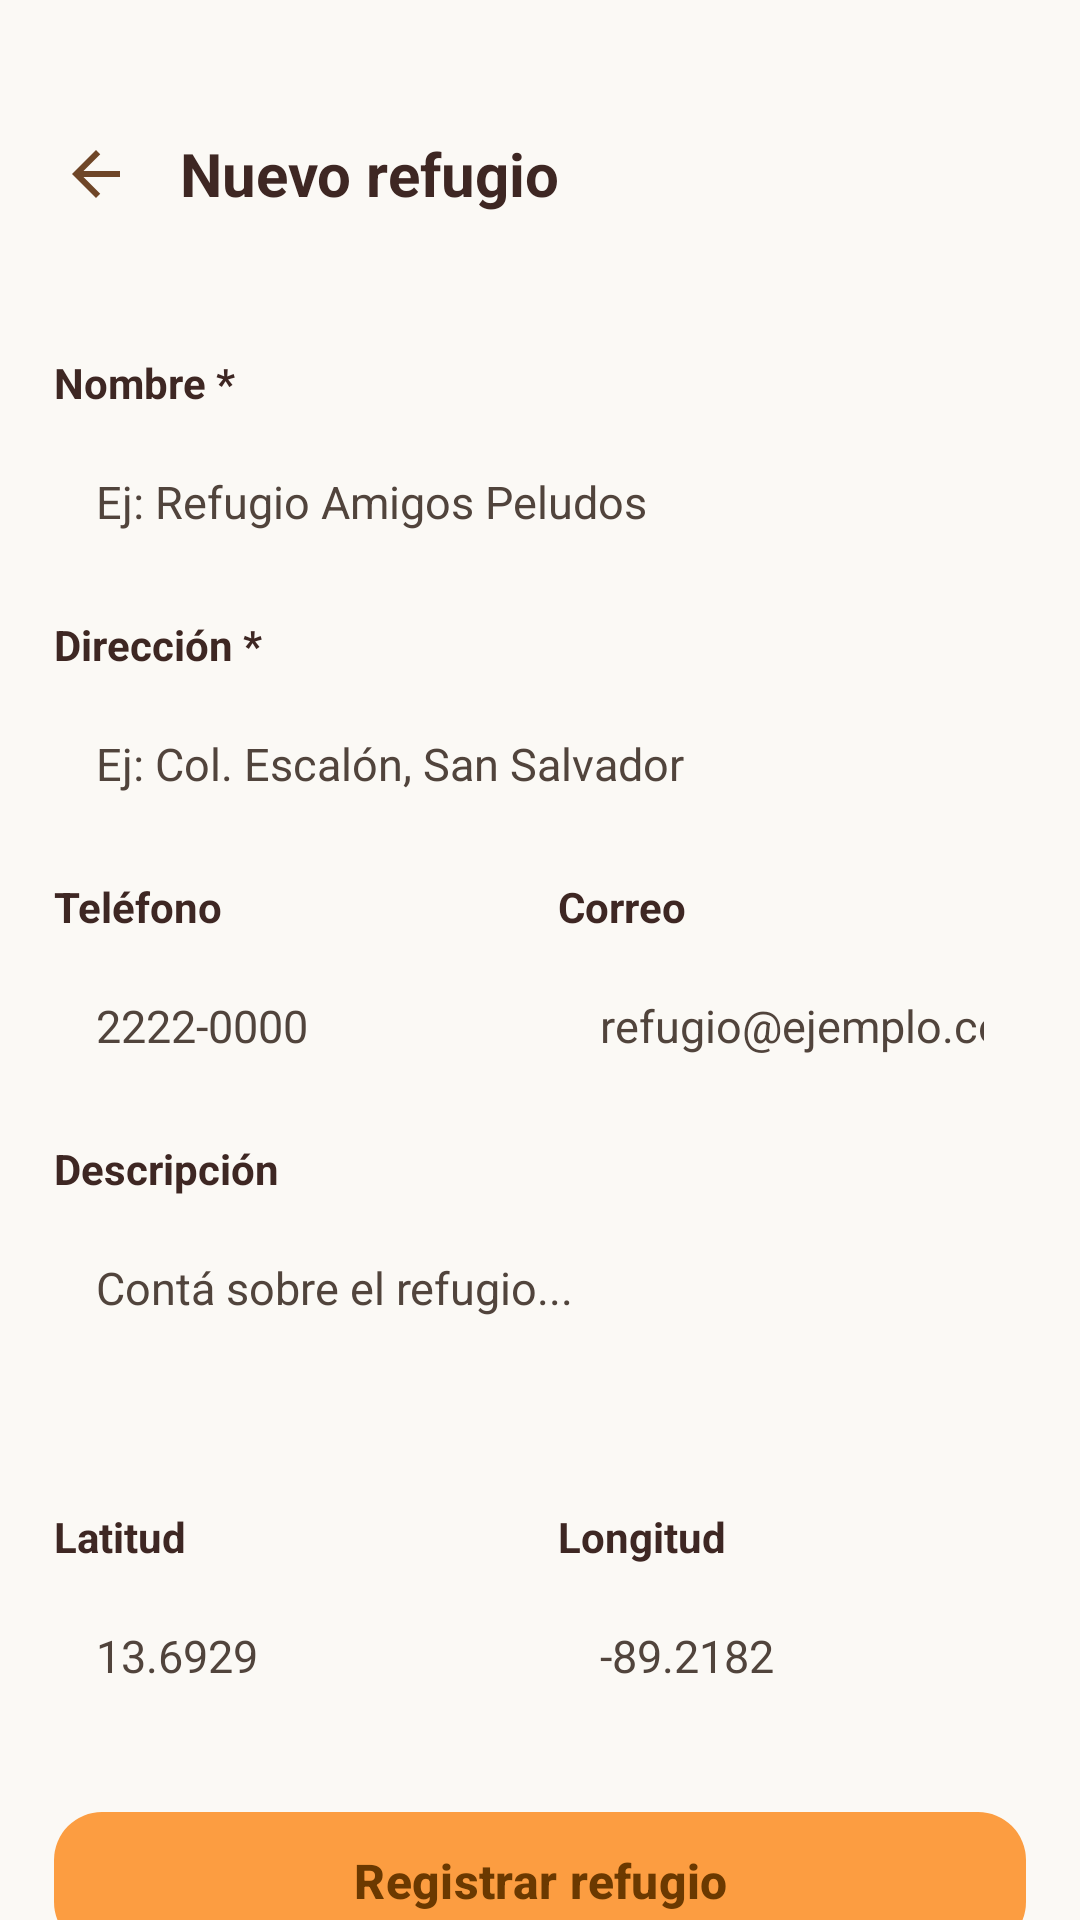

Icons on this 1080 x 1920 Android screen, each with the point to tap as [x,y]:
Volver: [96,174]
